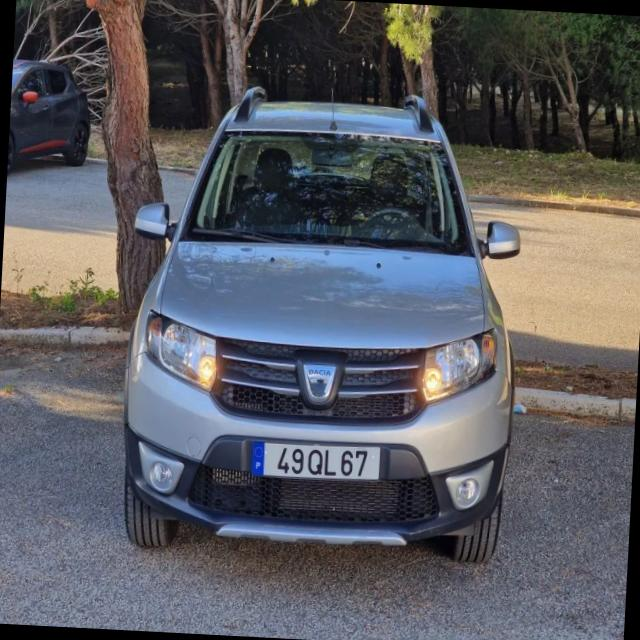portuguese-license-plates: (247, 438, 383, 484)
